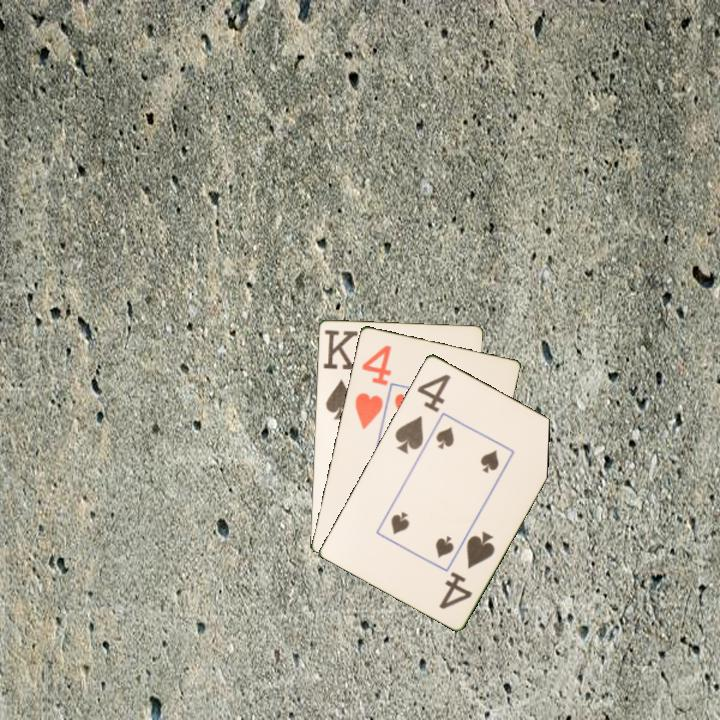4h: (351, 341, 394, 432)
4s: (391, 370, 454, 456), (435, 527, 498, 612)
Ks: (320, 325, 360, 422)
